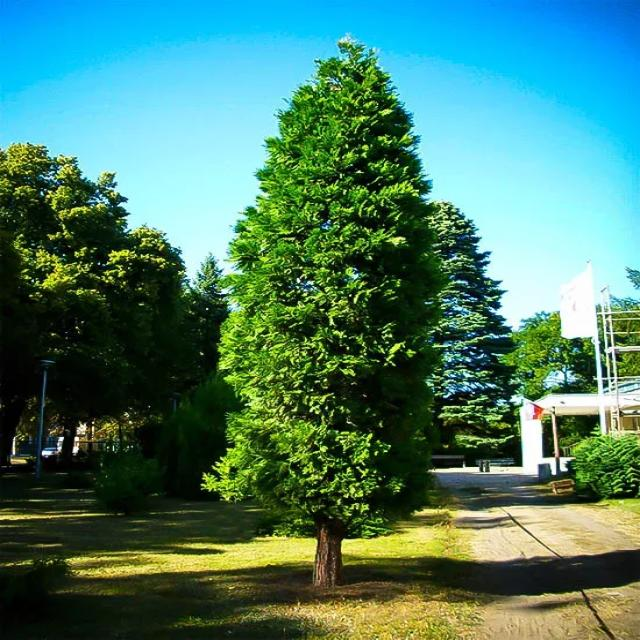Calocedrus decurrens: (223, 33, 429, 585)
